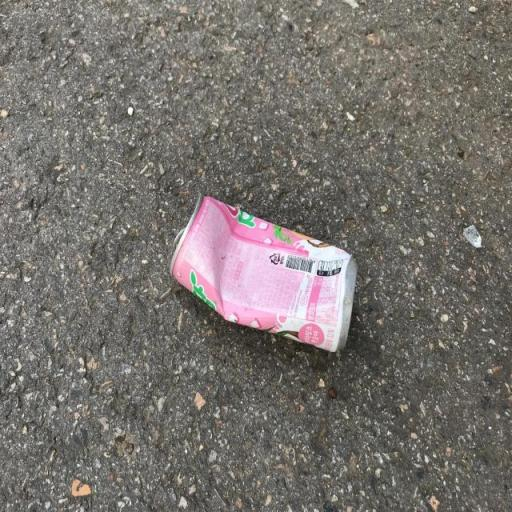metal: (164, 180, 378, 382)
